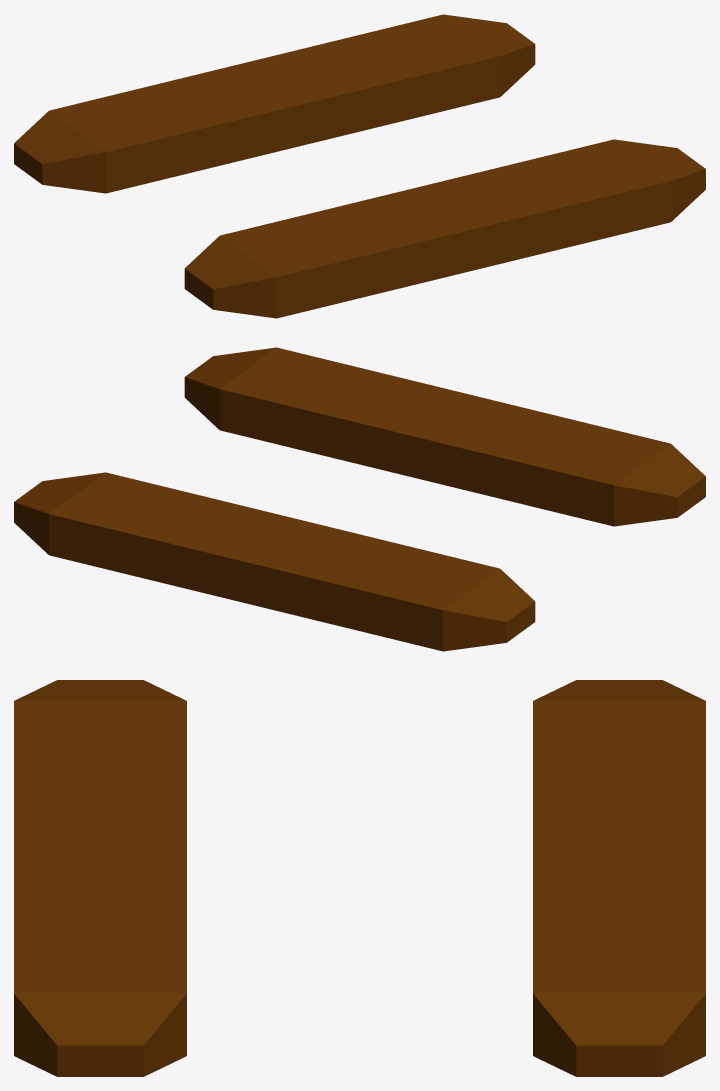
File: TankTrack.obj
The picture shows the model from 3 angles, top to bottom: view 1: azimuth 30°, elevation 25°; view 2: azimuth 150°, elevation 25°; view 3: azimuth 270°, elevation 25°; orthographic projection. The views are drawn at different scales.
Visible parts, largest first — view 1: RightTrack, LeftTrack; view 2: RightTrack, LeftTrack; view 3: RightTrack, LeftTrack.
Boxes of the visible parts, <box> form: RightTrack: <box>14,14,535,193</box>; LeftTrack: <box>184,139,705,318</box>; RightTrack: <box>14,472,535,651</box>; LeftTrack: <box>184,347,705,526</box>; RightTrack: <box>533,680,705,1076</box>; LeftTrack: <box>14,680,186,1076</box>.
Size of the model in its own units: 5 by 0.4 by 4.
